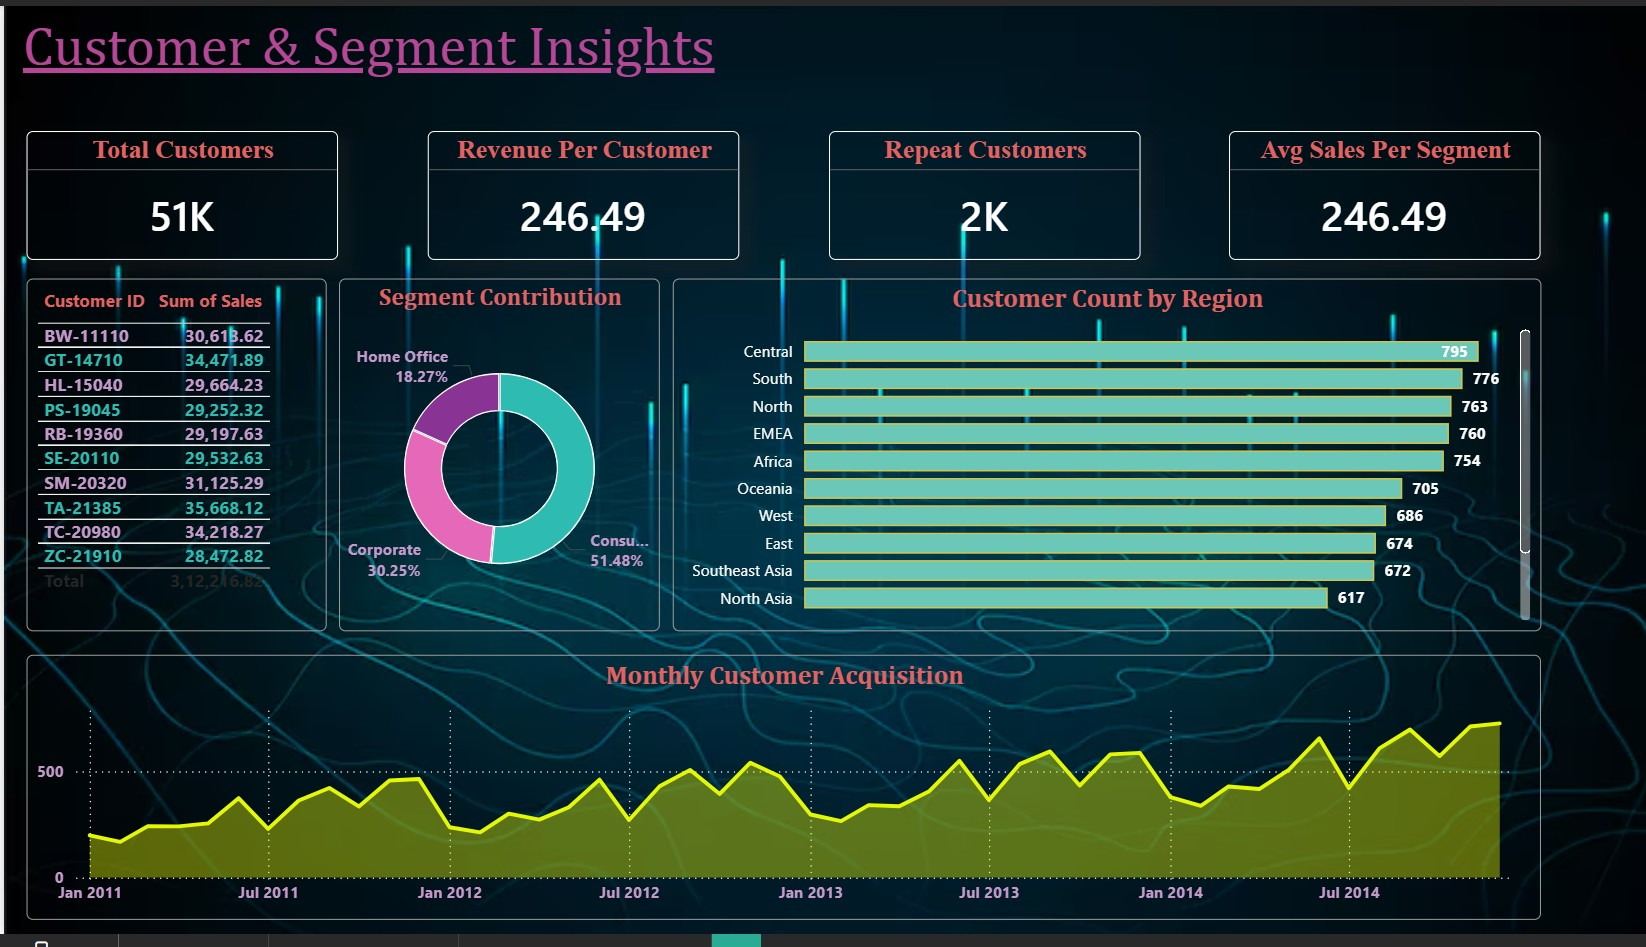

What the dashboard file says about the page in this screenshot:
{"tool":"powerbi","page":{"name":"Customer & Segment Insights","canvas":[1280,720],"ordinal":2},"visuals":[{"type":"textbox","box":[9.5,0,819.3,67.5],"z":0},{"type":"cardVisual","title":"Total Customers","fields":{"Data":["Global_Superstore.Total Customers"]},"box":[17.9,97.3,241.5,100.2],"z":1},{"type":"cardVisual","title":"Avg Sales Per Segment","fields":{"Data":["Global_Superstore.Avg Sales Per Segment"]},"box":[950.1,97.3,241.5,100.2],"z":2},{"type":"cardVisual","title":"Revenue Per Customer","fields":{"Data":["Global_Superstore.Revenue Per Customer"]},"box":[328.6,97.3,241.5,100.2],"z":3},{"type":"cardVisual","title":"Repeat Customers","fields":{"Data":["Global_Superstore.Repeat Customers"]},"box":[639.4,97.3,241.5,100.2],"z":4},{"type":"donutChart","title":"Segment Contribution","fields":{"Y":["Sum(Global_Superstore.Sales)"],"Category":["Global_Superstore.Segment"]},"box":[259.3,211.6,248.8,273.3],"z":5},{"type":"tableEx","fields":{"Values":["Global_Superstore.Customer ID","Sum(Global_Superstore.Sales)"]},"box":[17.4,211.6,232.6,273.3],"z":6},{"type":"clusteredBarChart","fields":{"Category":["Global_Superstore.Region"],"Y":["Global_Superstore.Customer Count"]},"box":[518.6,211.6,673.3,273.3],"z":7},{"type":"lineChart","title":"Monthly Customer Acquisition","fields":{"Y":["Global_Superstore.Customer Count"],"Category":["Global_Superstore.Order Date.Variation.Date Hierarchy.Year","Global_Superstore.Order Date.Variation.Date Hierarchy.Month"]},"box":[17.4,503.5,1174.4,205.8],"z":8}]}

Visuals, with their boxes in screenshot pixels (x1, y1, x2, y2), scaled from the page's 1280x720 canvas onto the 1646x947 screenshot:
textbox: box=[12, 0, 1066, 89]
"Total Customers" cardVisual: box=[23, 128, 334, 260]
"Avg Sales Per Segment" cardVisual: box=[1222, 128, 1532, 260]
"Revenue Per Customer" cardVisual: box=[423, 128, 733, 260]
"Repeat Customers" cardVisual: box=[822, 128, 1133, 260]
"Segment Contribution" donutChart: box=[333, 278, 653, 638]
tableEx - Global_Superstore.Customer ID x Sum(Global_Superstore.Sales): box=[22, 278, 321, 638]
clusteredBarChart - Global_Superstore.Region x Global_Superstore.Customer Count: box=[667, 278, 1533, 638]
"Monthly Customer Acquisition" lineChart: box=[22, 662, 1533, 933]
